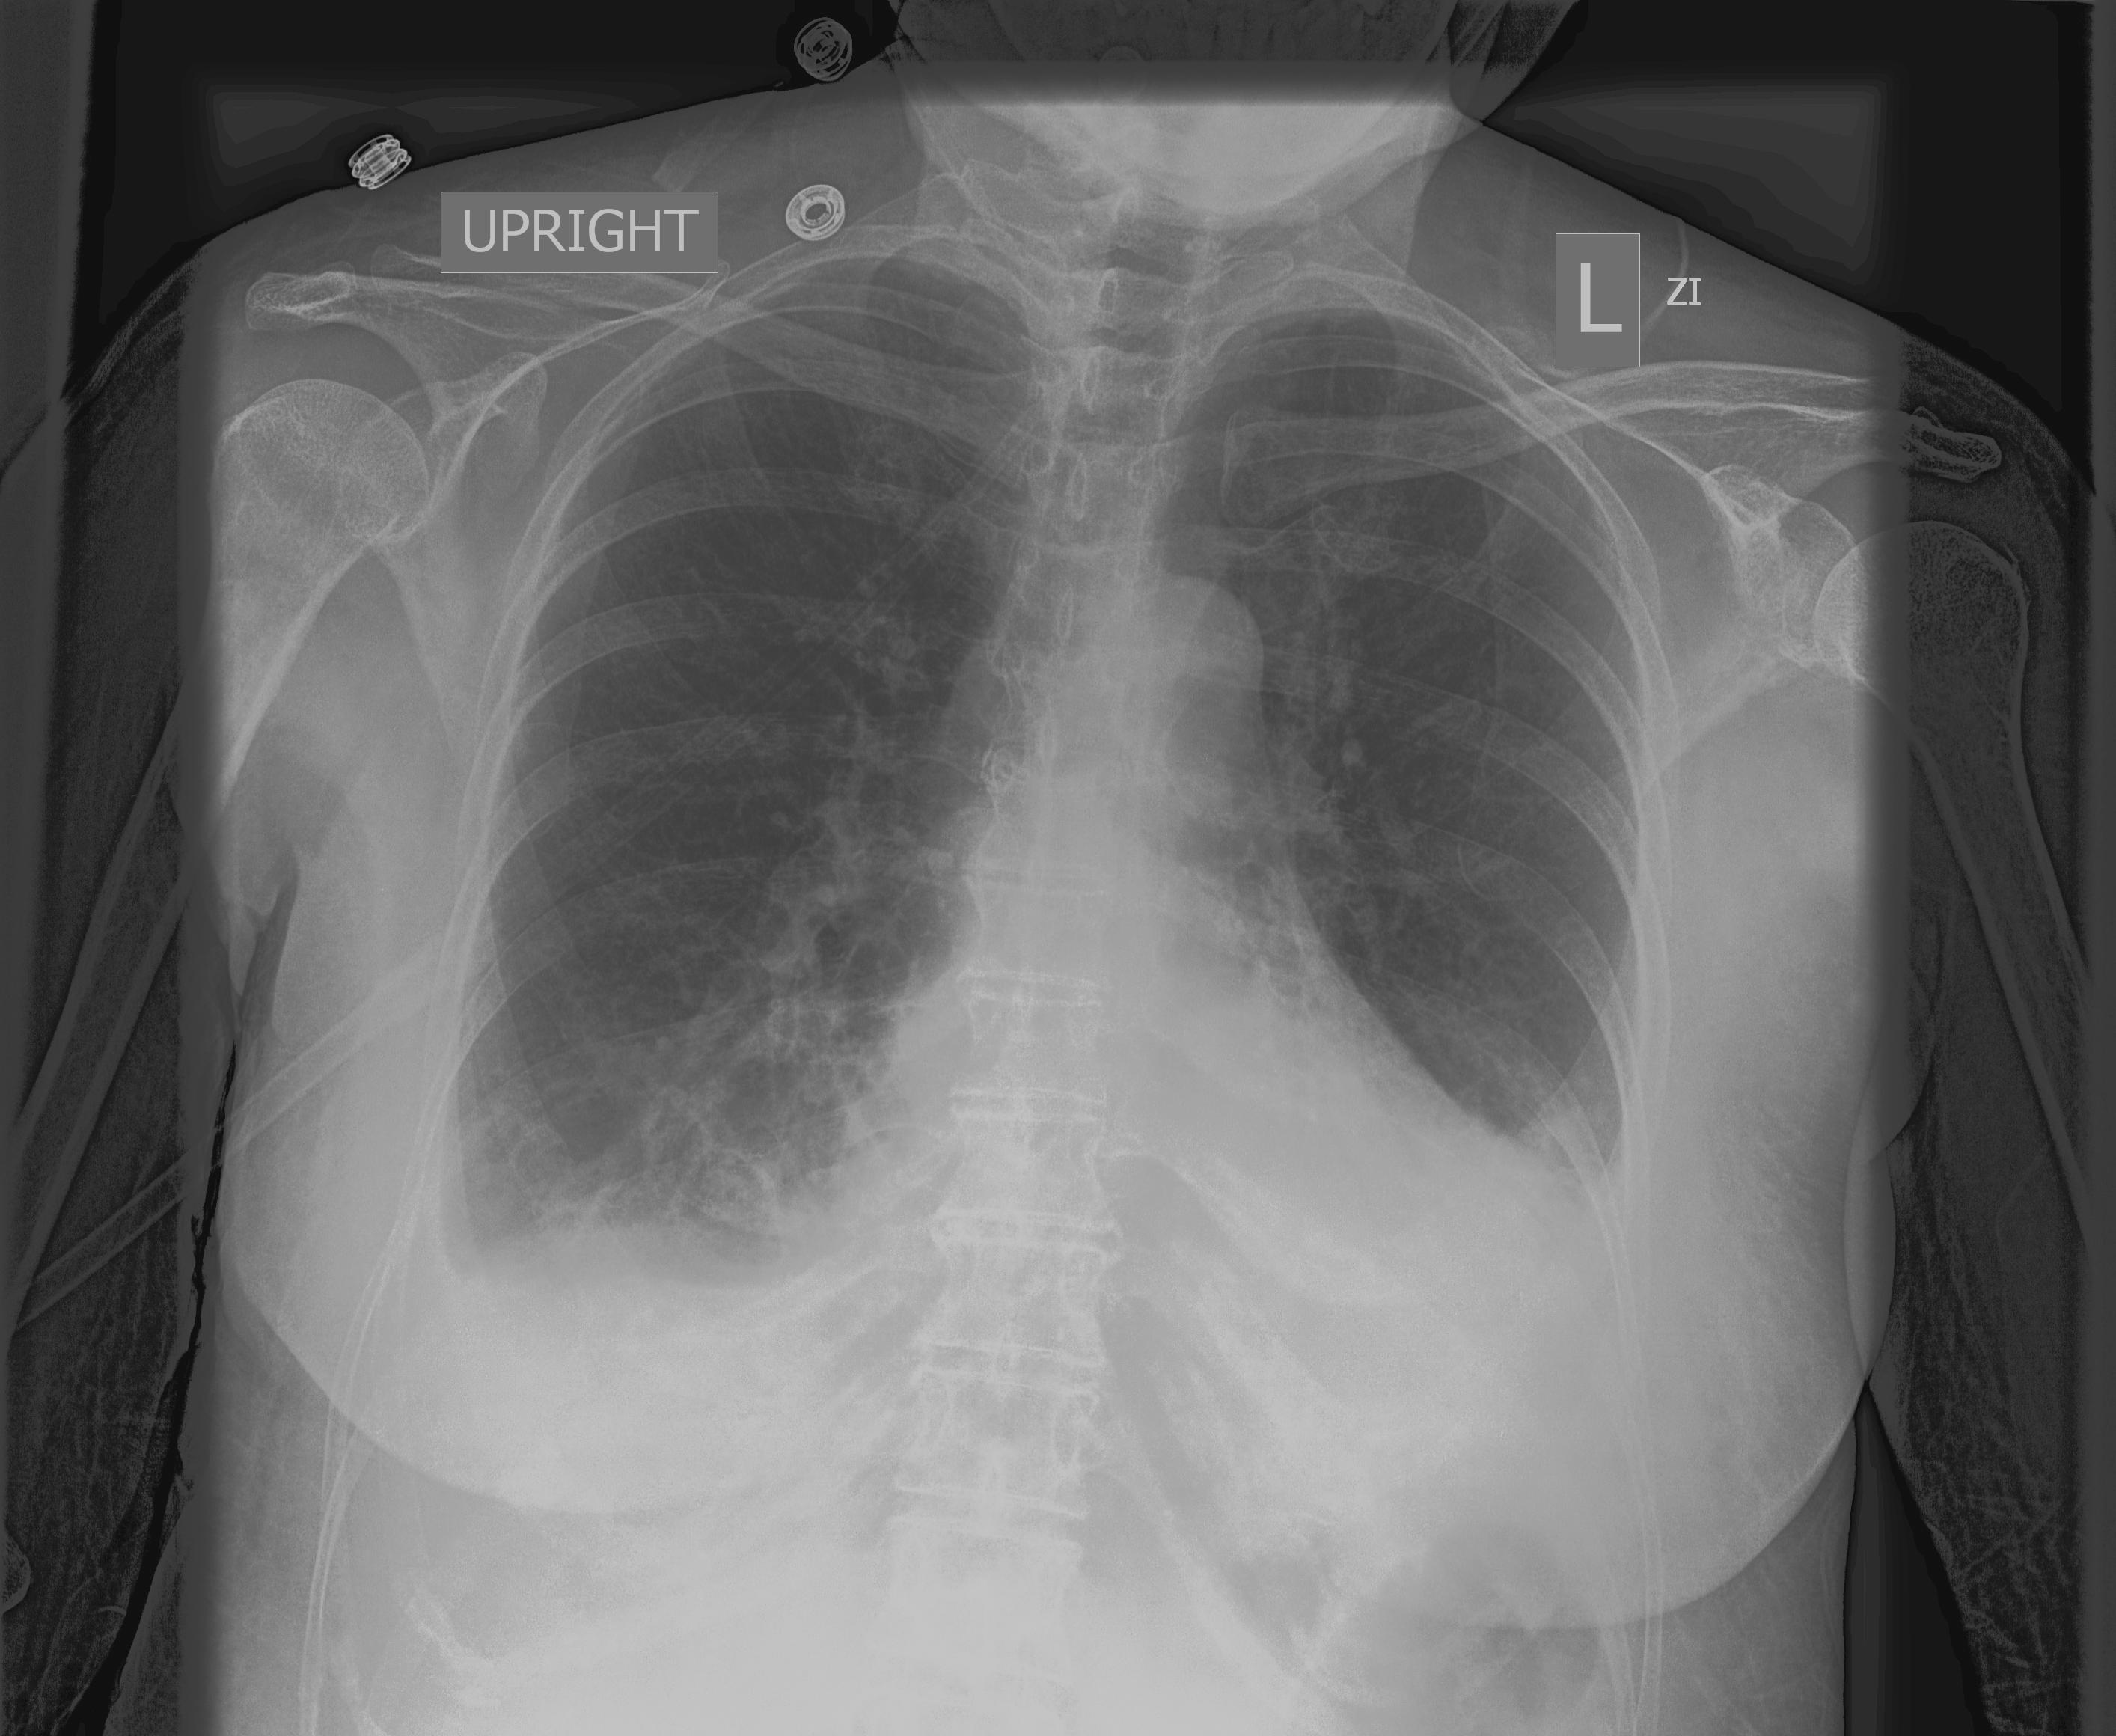Pleural Effusion: (320, 1228, 756, 1580), (1341, 1130, 1694, 1520)
